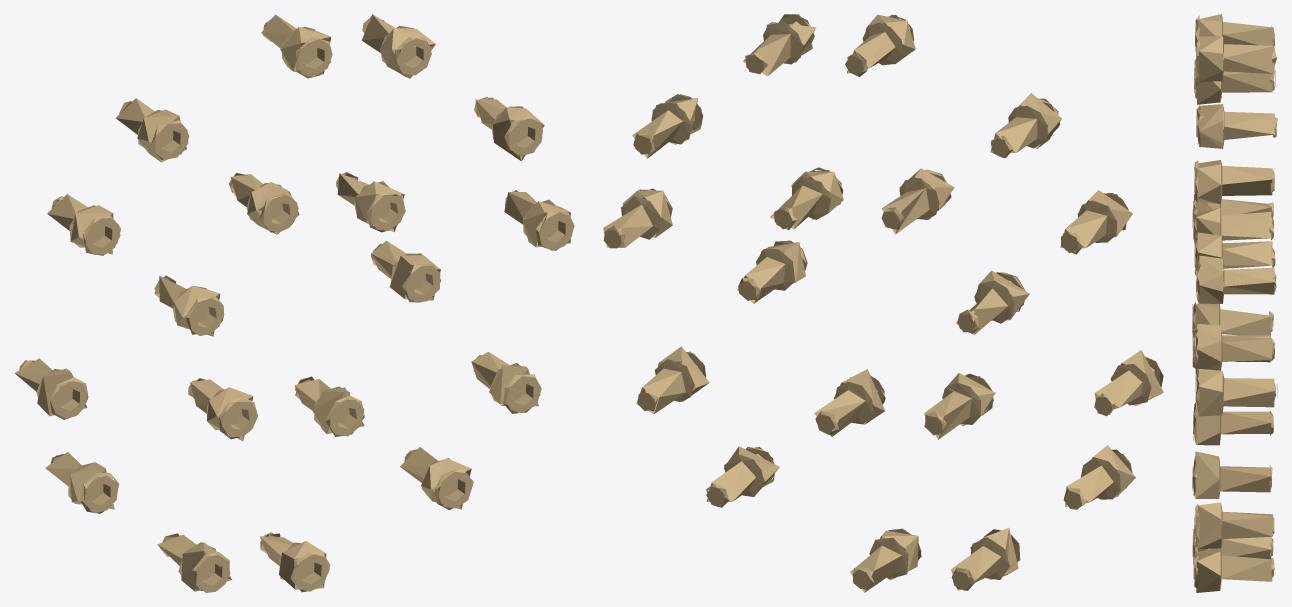
File: front_right_wheel_145.dae
3 renders of one model, left to right at view 1: azimuth 30°, elevation 25°; view 2: azimuth 150°, elevation 25°; view 3: azimuth 270°, elevation 25°, orthographic. The views are drawn at different scales.
Visible parts, largest first — view 1: node; view 2: node; view 3: node.
Boxes of the visible parts, x1,y1,x2,y2 form: node: (14,14,574,592); node: (603,14,1163,592); node: (1192,14,1277,592).
Size of the model in its own units: 0.1724 by 0.0253 by 0.1737.
